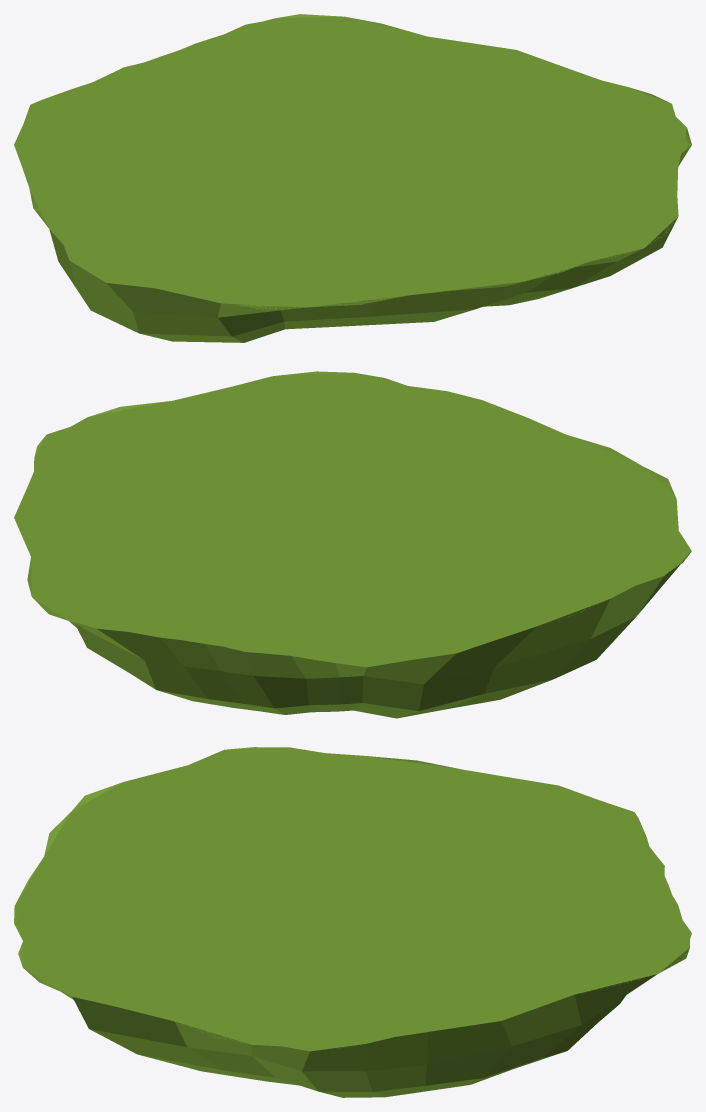
The model's file is mod_terrain_lvl1.fbx.
The picture shows the model from 3 angles, top to bottom: view 1: azimuth 30°, elevation 25°; view 2: azimuth 150°, elevation 25°; view 3: azimuth 270°, elevation 25°; orthographic projection. The views are drawn at different scales.
Parts seen in each view (by area): view 1: mod_terrain02_p1, mod_terrain02_p3, mod_terrain02_p2; view 2: mod_terrain02_p1, mod_terrain02_p3, mod_terrain02_p2; view 3: mod_terrain02_p1, mod_terrain02_p3, mod_terrain02_p2.
Boxes of the visible parts, x1,y1,x2,y2 form: mod_terrain02_p1: (29,20,669,303); mod_terrain02_p3: (29,14,691,342); mod_terrain02_p2: (14,14,691,310); mod_terrain02_p1: (32,377,670,658); mod_terrain02_p3: (27,371,690,718); mod_terrain02_p2: (14,371,691,667); mod_terrain02_p1: (32,753,682,1043); mod_terrain02_p3: (14,747,689,1097); mod_terrain02_p2: (14,747,691,1051).
Size of the model in its own units: 2006 by 346 by 1889.
